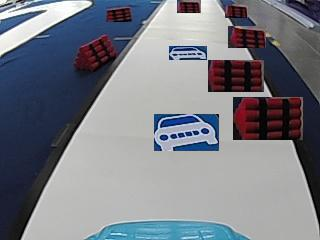bomb: (75, 32, 114, 70)
